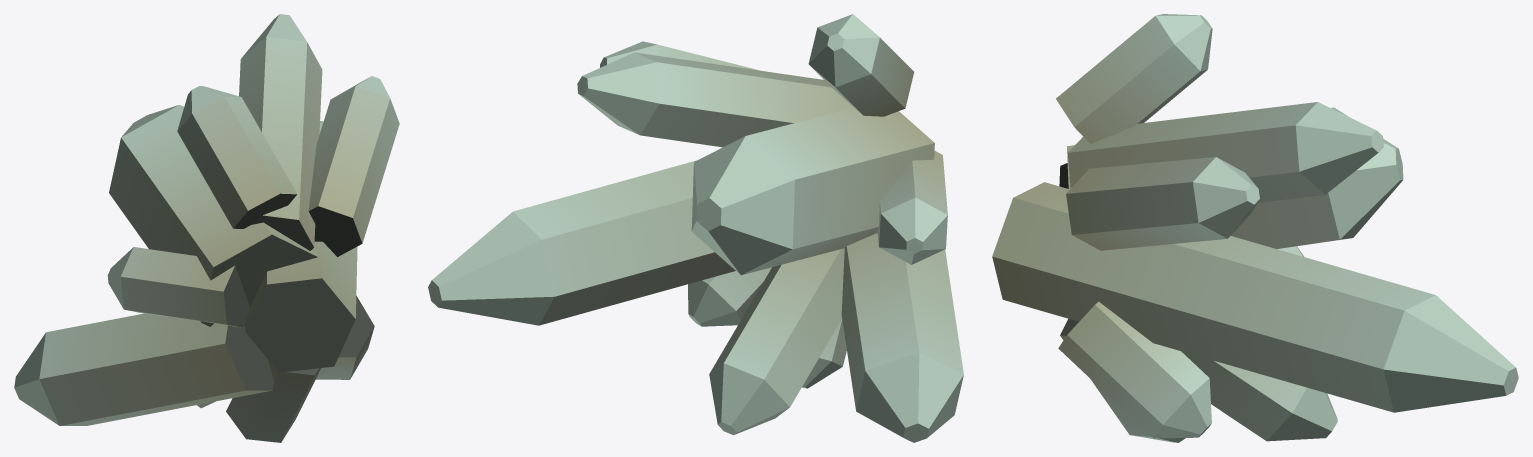
Rendered from ColoredCrystalCluster.002.glb.
3 renders of one model, left to right at view 1: azimuth 30°, elevation 25°; view 2: azimuth 150°, elevation 25°; view 3: azimuth 270°, elevation 25°, orthographic. The views are drawn at different scales.
Parts seen in each view (by area): view 1: ColoredCrystalCluster.002; view 2: ColoredCrystalCluster.002; view 3: ColoredCrystalCluster.002.
Boxes of the visible parts, x1=… form: ColoredCrystalCluster.002: x1=14, y1=14, x2=399, y2=442; ColoredCrystalCluster.002: x1=428, y1=14, x2=963, y2=442; ColoredCrystalCluster.002: x1=992, y1=14, x2=1518, y2=442.
Size of the model in its own units: 800 by 696 by 822.
